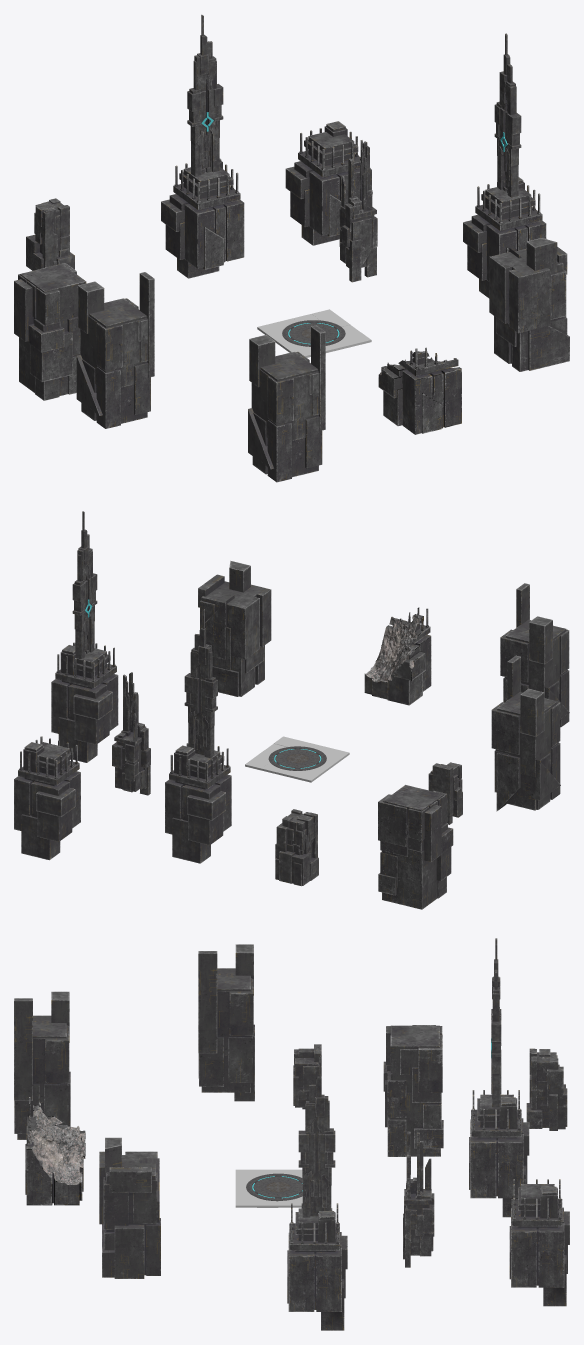
File: BossMap.fbx
The picture shows the model from 3 angles, top to bottom: view 1: azimuth 30°, elevation 25°; view 2: azimuth 150°, elevation 25°; view 3: azimuth 270°, elevation 25°; orthographic projection. The views are drawn at different scales.
Visible parts, largest first — view 1: SM_pal_boss_building_Fartower_02.mo, SM_pal_boss_building_Fartower_02_BOSS.mo, SM_pal_boss_building_Fartower_01_BOSS.mo, SM_pal_boss_building_Fartower_03_BOSS.mo, SM_pal_boss_building_Fartower_05.mo, SM_pal_boss_building_Fartower_05_BOSS.mo.001, SM_pal_boss_building_Fartower_06.mo, SM_pal_boss_building_Fartower_05_BOSS.mo, SM_pal_boss_building_Gatetower_01.mo, SM_pal_boss_building_GateTower_04.mo, SM_pal_boss_building_Gatetower_01.mo.001, SM_pal_boss_building_GateTower_02.mo; view 2: SM_pal_boss_building_Fartower_03_BOSS.mo, SM_pal_boss_building_Fartower_02.mo, SM_pal_boss_building_Fartower_01_BOSS.mo, SM_pal_boss_building_Fartower_05_BOSS.mo.001, SM_pal_boss_building_Fartower_05.mo, SM_pal_boss_building_Fartower_05_BOSS.mo, SM_pal_boss_building_Fartower_02_BOSS.mo, SM_pal_boss_building_Fartower_06.mo, SM_pal_boss_building_Gatetower_01.mo, SM_pal_boss_building_GateTower_04.mo, SM_pal_boss_building_GateTower_02.mo, SM_pal_boss_building_Gatetower_01.mo.001 (+1 smaller); view 3: SM_pal_boss_building_Fartower_02.mo, SM_pal_boss_building_Fartower_01_BOSS.mo, SM_pal_boss_building_Fartower_03_BOSS.mo, SM_pal_boss_building_Fartower_02_BOSS.mo, SM_pal_boss_building_Fartower_05_BOSS.mo.001, SM_pal_boss_building_Fartower_05_BOSS.mo, SM_pal_boss_building_Fartower_05.mo, SM_pal_boss_building_Fartower_06.mo, SM_pal_boss_building_Gatetower_01.mo.001, SM_pal_boss_building_GateTower_04.mo, SM_pal_boss_building_GateTower_02.mo, SM_pal_boss_building_Gatetower_01.mo (+1 smaller).
Boxes of the visible parts, left/top/right/bottom form: SM_pal_boss_building_Fartower_02.mo: left=76, top=272, right=154, bottom=428; SM_pal_boss_building_Fartower_02_BOSS.mo: left=248, top=325, right=325, bottom=482; SM_pal_boss_building_Fartower_01_BOSS.mo: left=489, top=238, right=569, bottom=371; SM_pal_boss_building_Fartower_03_BOSS.mo: left=14, top=263, right=86, bottom=400; SM_pal_boss_building_Fartower_05.mo: left=161, top=158, right=244, bottom=278; SM_pal_boss_building_Fartower_05_BOSS.mo.001: left=285, top=121, right=362, bottom=245; SM_pal_boss_building_Fartower_06.mo: left=378, top=347, right=461, bottom=434; SM_pal_boss_building_Fartower_05_BOSS.mo: left=463, top=177, right=546, bottom=298; SM_pal_boss_building_Gatetower_01.mo: left=187, top=14, right=223, bottom=176; SM_pal_boss_building_GateTower_04.mo: left=339, top=141, right=377, bottom=282; SM_pal_boss_building_Gatetower_01.mo.001: left=494, top=33, right=521, bottom=197; SM_pal_boss_building_GateTower_02.mo: left=26, top=198, right=74, bottom=270; SM_pal_boss_building_Fartower_03_BOSS.mo: left=378, top=784, right=453, bottom=909; SM_pal_boss_building_Fartower_02.mo: left=491, top=655, right=560, bottom=811; SM_pal_boss_building_Fartower_01_BOSS.mo: left=198, top=560, right=271, bottom=696; SM_pal_boss_building_Fartower_05_BOSS.mo.001: left=14, top=736, right=80, bottom=860; SM_pal_boss_building_Fartower_05.mo: left=165, top=743, right=231, bottom=863; SM_pal_boss_building_Fartower_05_BOSS.mo: left=51, top=642, right=118, bottom=762; SM_pal_boss_building_Fartower_02_BOSS.mo: left=500, top=583, right=569, bottom=727; SM_pal_boss_building_Fartower_06.mo: left=364, top=607, right=431, bottom=705; SM_pal_boss_building_Gatetower_01.mo: left=184, top=609, right=217, bottom=758; SM_pal_boss_building_GateTower_04.mo: left=112, top=672, right=150, bottom=795; SM_pal_boss_building_GateTower_02.mo: left=275, top=809, right=318, bottom=886; SM_pal_boss_building_Gatetower_01.mo.001: left=72, top=511, right=97, bottom=659; SM_pal_boss_building_Fartower_02.mo: left=198, top=944, right=254, bottom=1101; SM_pal_boss_building_Fartower_01_BOSS.mo: left=99, top=1137, right=160, bottom=1278; SM_pal_boss_building_Fartower_03_BOSS.mo: left=383, top=1025, right=443, bottom=1156; SM_pal_boss_building_Fartower_02_BOSS.mo: left=14, top=991, right=70, bottom=1139; SM_pal_boss_building_Fartower_05_BOSS.mo.001: left=509, top=1179, right=569, bottom=1306; SM_pal_boss_building_Fartower_05_BOSS.mo: left=287, top=1203, right=347, bottom=1330; SM_pal_boss_building_Fartower_05.mo: left=469, top=1090, right=529, bottom=1217; SM_pal_boss_building_Fartower_06.mo: left=25, top=1097, right=85, bottom=1205; SM_pal_boss_building_Gatetower_01.mo.001: left=298, top=1055, right=335, bottom=1217; SM_pal_boss_building_GateTower_04.mo: left=403, top=1131, right=434, bottom=1267; SM_pal_boss_building_GateTower_02.mo: left=526, top=1048, right=567, bottom=1130; SM_pal_boss_building_Gatetower_01.mo: left=491, top=938, right=501, bottom=1107.
Bounding box in the file's own units: 23724 × 13725 × 22948.
